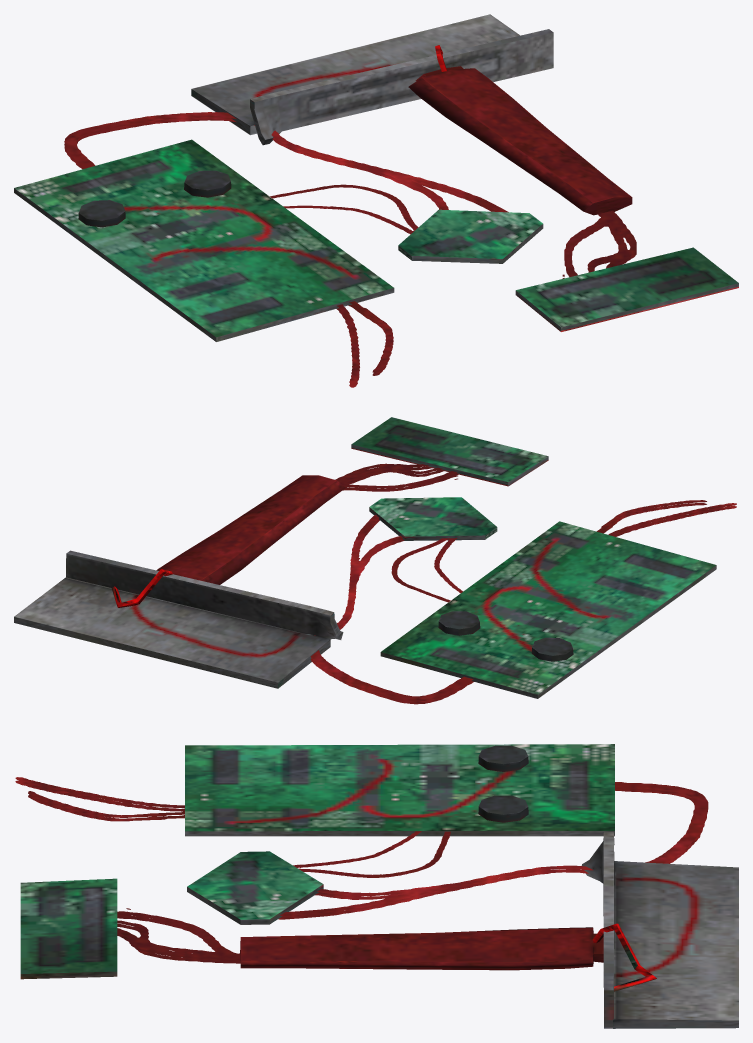
File: electrical_scraps01.DAE
The picture shows the model from 3 angles, top to bottom: view 1: azimuth 30°, elevation 25°; view 2: azimuth 150°, elevation 25°; view 3: azimuth 270°, elevation 25°; orthographic projection. The views are drawn at different scales.
Parts seen in each view (by area): view 1: electrical_scraps002; view 2: electrical_scraps002; view 3: electrical_scraps002.
Boxes of the visible parts, bbox=[...] form: electrical_scraps002: bbox=[14, 14, 738, 387]; electrical_scraps002: bbox=[14, 417, 736, 704]; electrical_scraps002: bbox=[15, 744, 738, 1028].
Size of the model in its own units: 0.4703 by 0.0394 by 0.5195.
